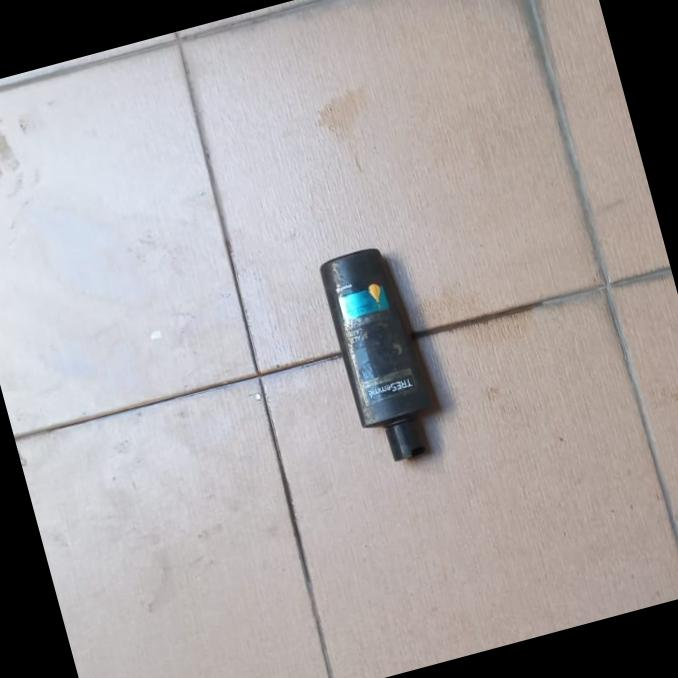Plastik: (312, 223, 449, 470)
